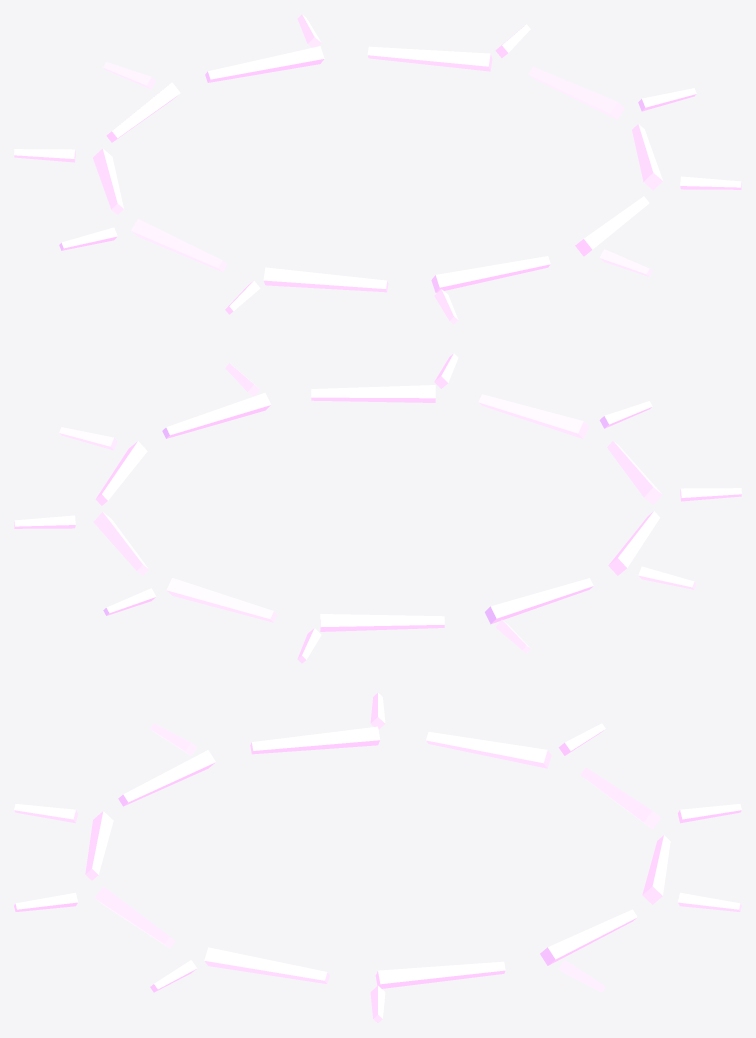
File: arcane_ring_b.glb
3 renders of one model, top to bottom at view 1: azimuth 30°, elevation 25°; view 2: azimuth 150°, elevation 25°; view 3: azimuth 270°, elevation 25°, orthographic. The views are drawn at different scales.
Parts seen in each view (by area): view 1: arcane_ring_b; view 2: arcane_ring_b; view 3: arcane_ring_b.
Part boxes in pixels (x1,y1,x2,y2): arcane_ring_b: [14, 14, 741, 324]; arcane_ring_b: [14, 353, 741, 663]; arcane_ring_b: [14, 693, 741, 1022].
Bounding box in the file's own units: 1.32 × 0.036 × 1.26.
